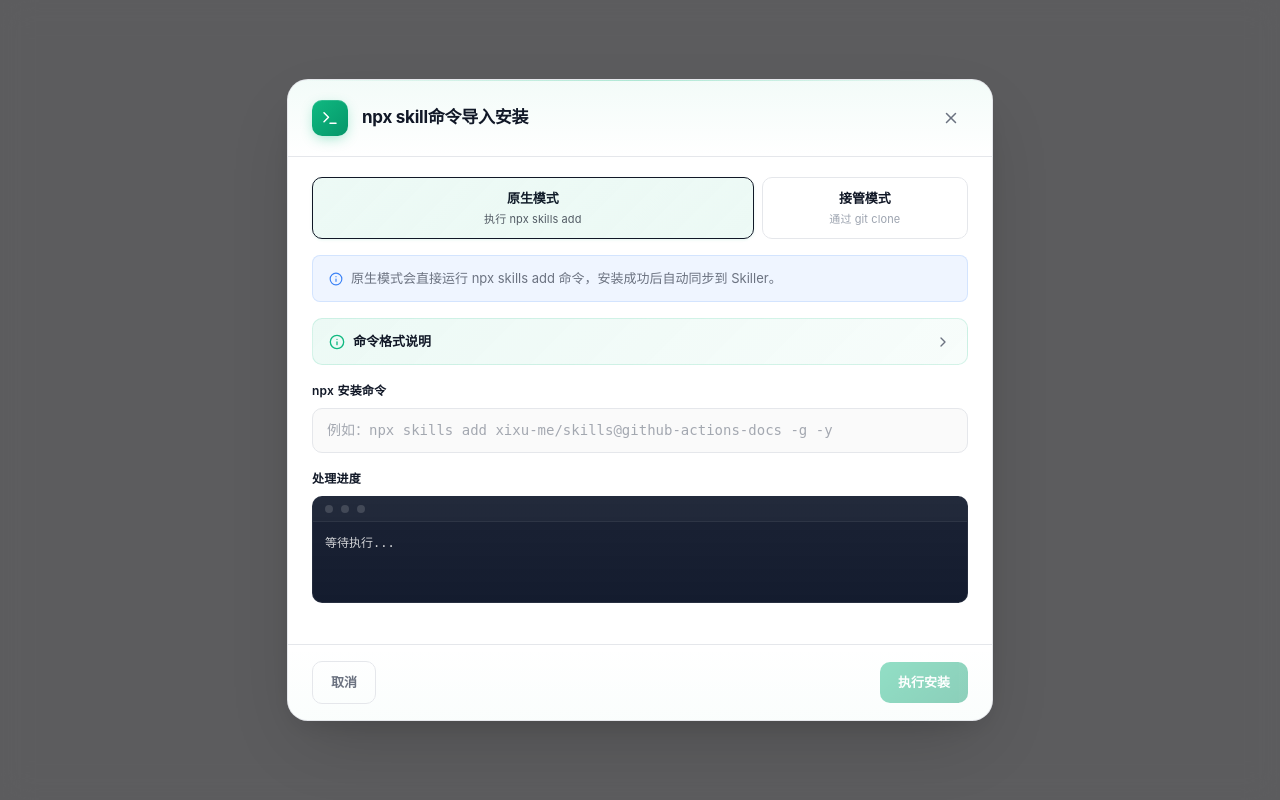
Scenario: NpxImportDialog - Native Mode Error Handling › should show friendly error when npx command fails
This screenshot has width=1280, height=800.
In the field with placeholder "例如：npx skills add xixu-me/skills@github-actions-docs -g -y": (640, 430) [312,408,968,453], type "npx skills add invalid-repo@skill -g -y"
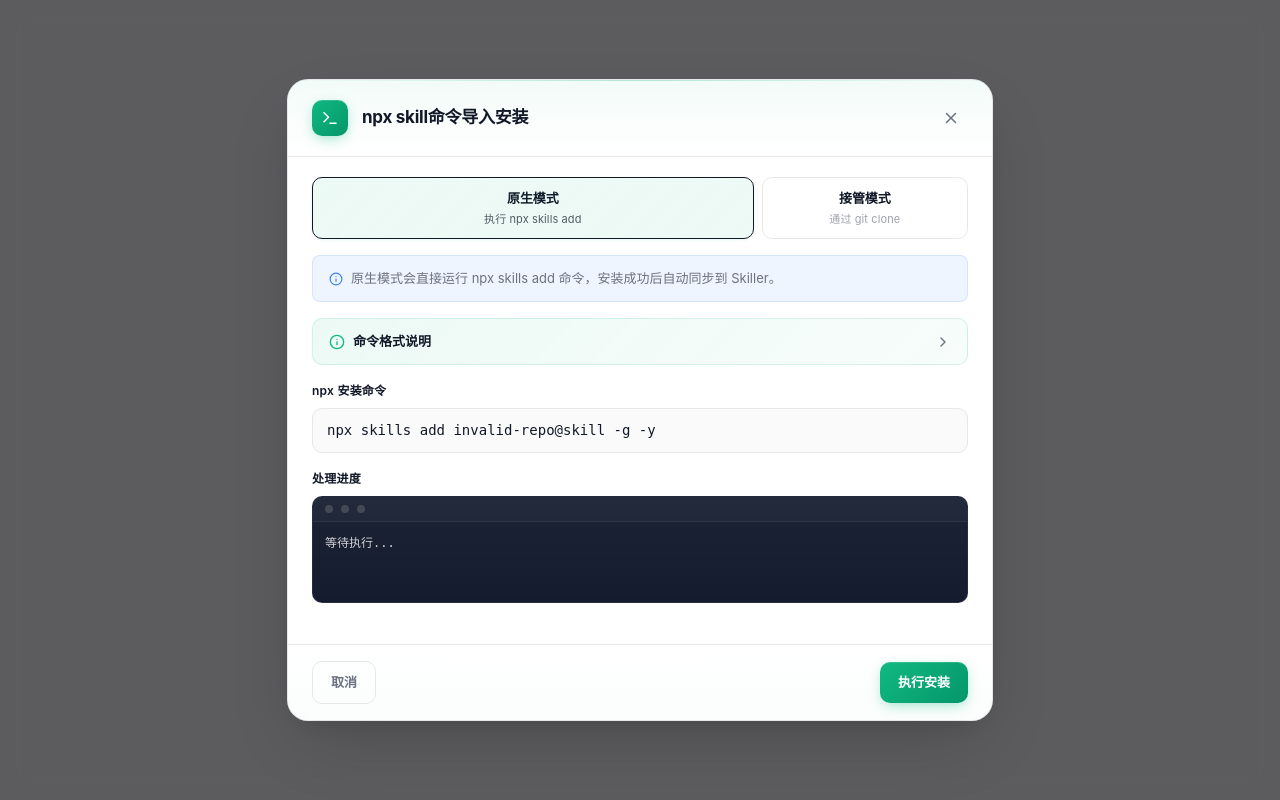
Click the button "执行安装": (924, 683) [880,662,968,703]
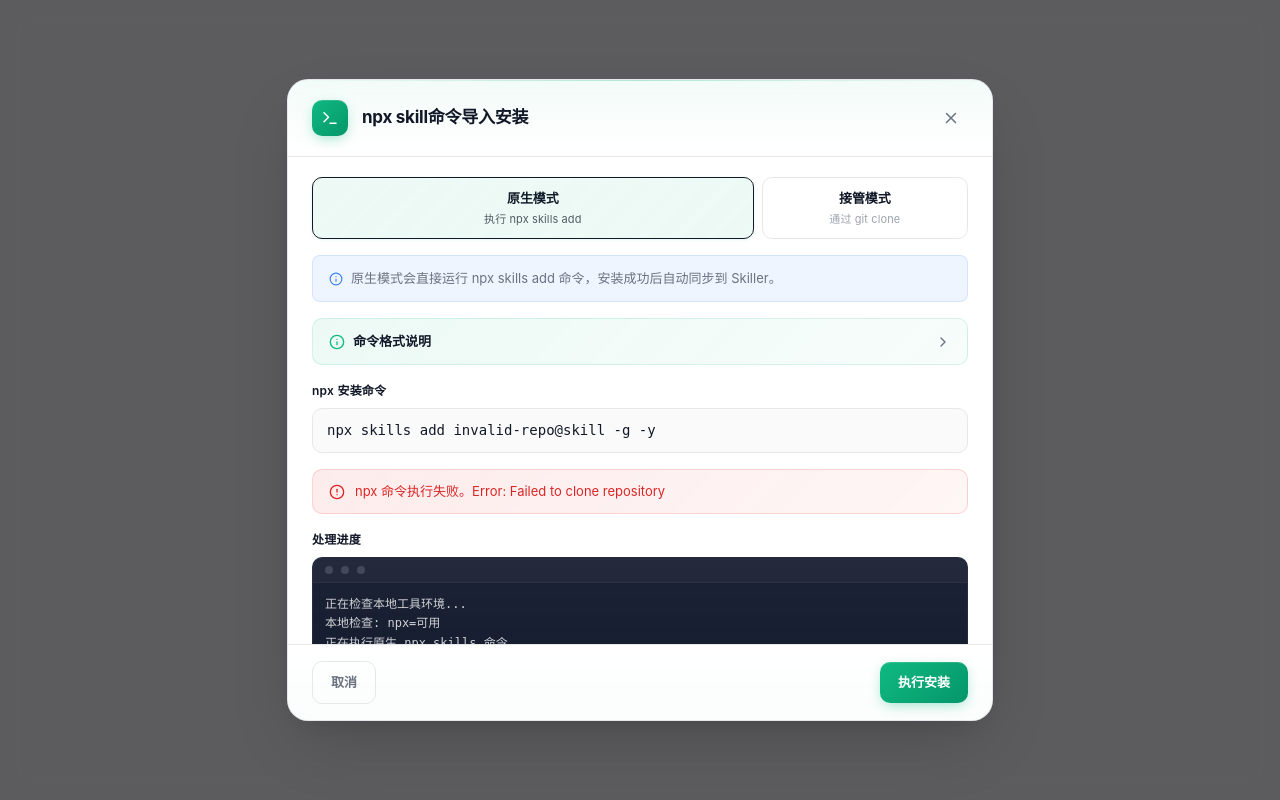
Expected: the text "npx 命令执行失败。Error: Failed to clone repository" is shown, [355,482,665,501]
